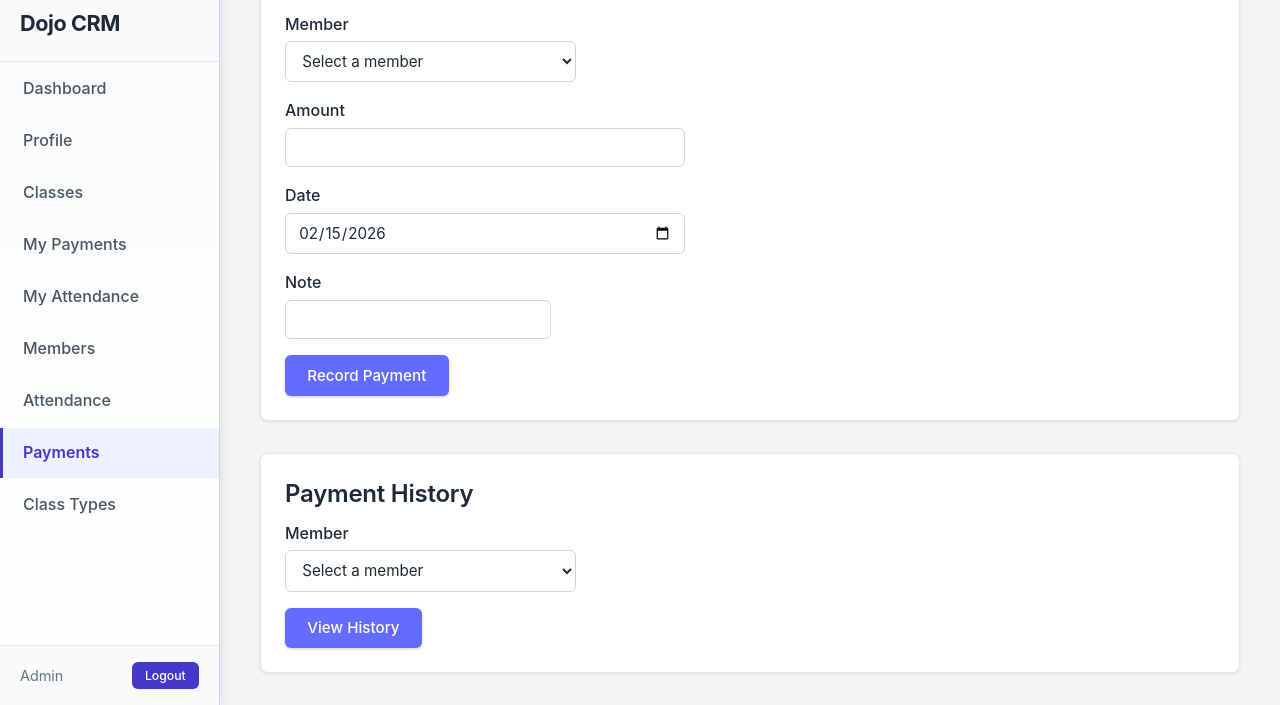
Payments › views payment history for a member
(page scrolled)
Check: the element "Payment History" is shown, box left=260, top=453, right=1240, bottom=673
Step 1. Select "Bob User (bob@example.com)" in the dropdown labelled "Member" below "Payment History" → x=431, y=571, box left=285, top=550, right=576, bottom=592
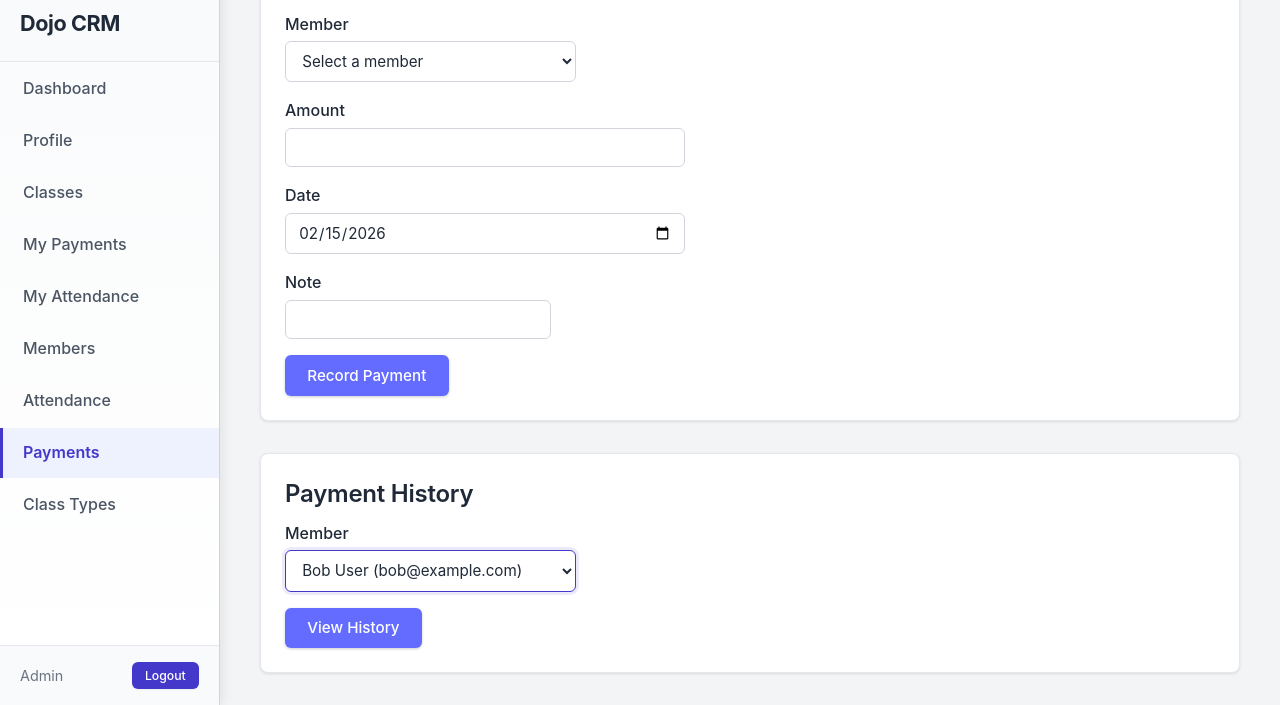
Step 2. Click the button "View History" → x=353, y=628, box left=285, top=608, right=422, bottom=648
(page scrolled)
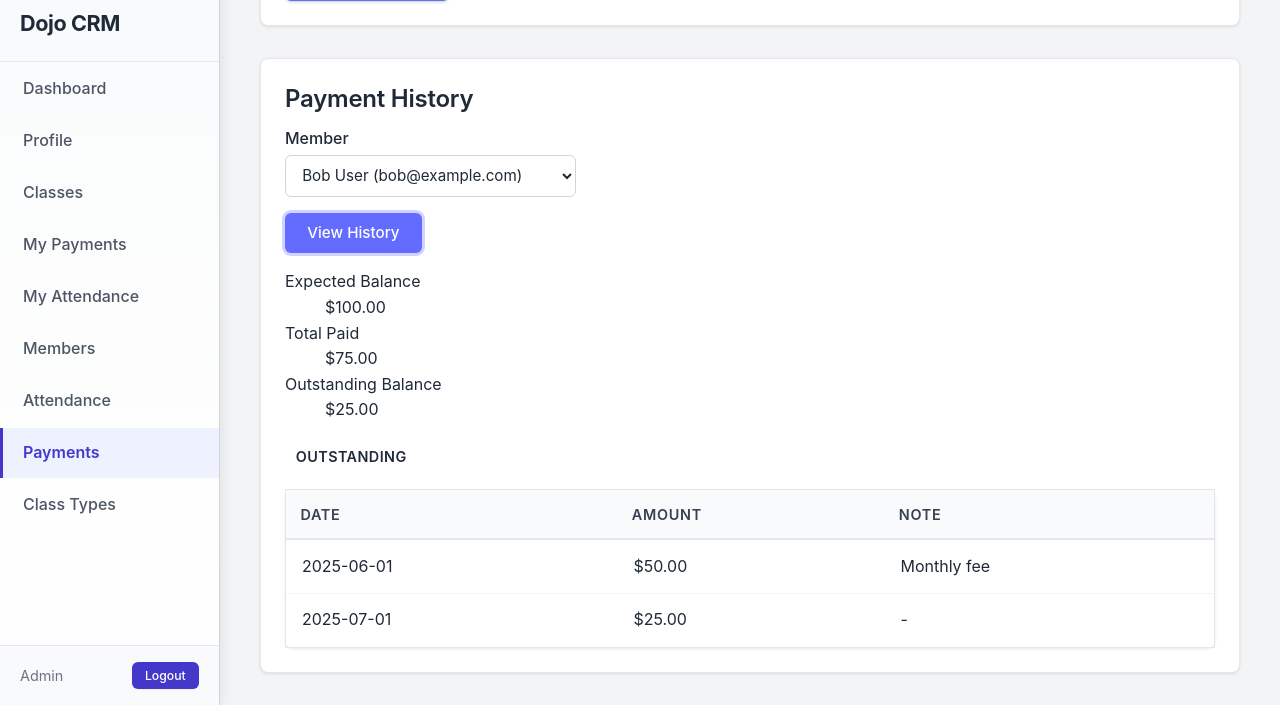
Check: the text "Monthly fee" is shown, box left=884, top=539, right=1214, bottom=593
Check: the text "$100.00" is shown, box left=325, top=297, right=386, bottom=317
Check: the text "$75.00" is shown, box left=325, top=348, right=378, bottom=368
